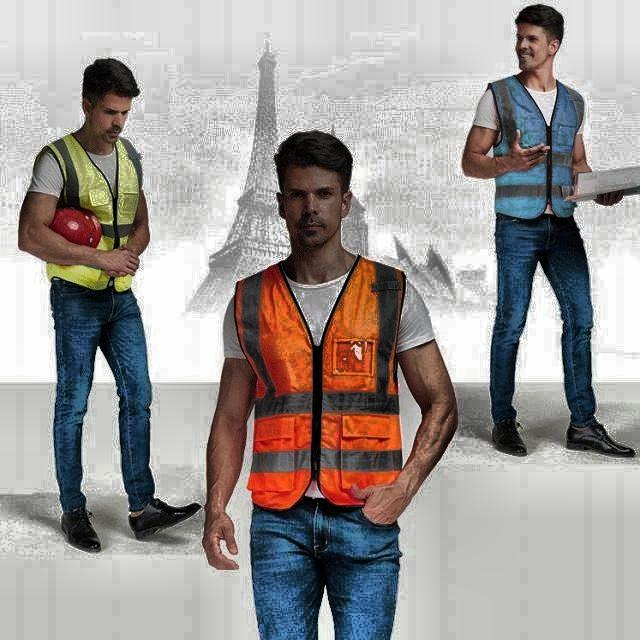safety_jacket: (242, 261, 408, 510), (50, 138, 152, 290), (487, 66, 586, 211)
